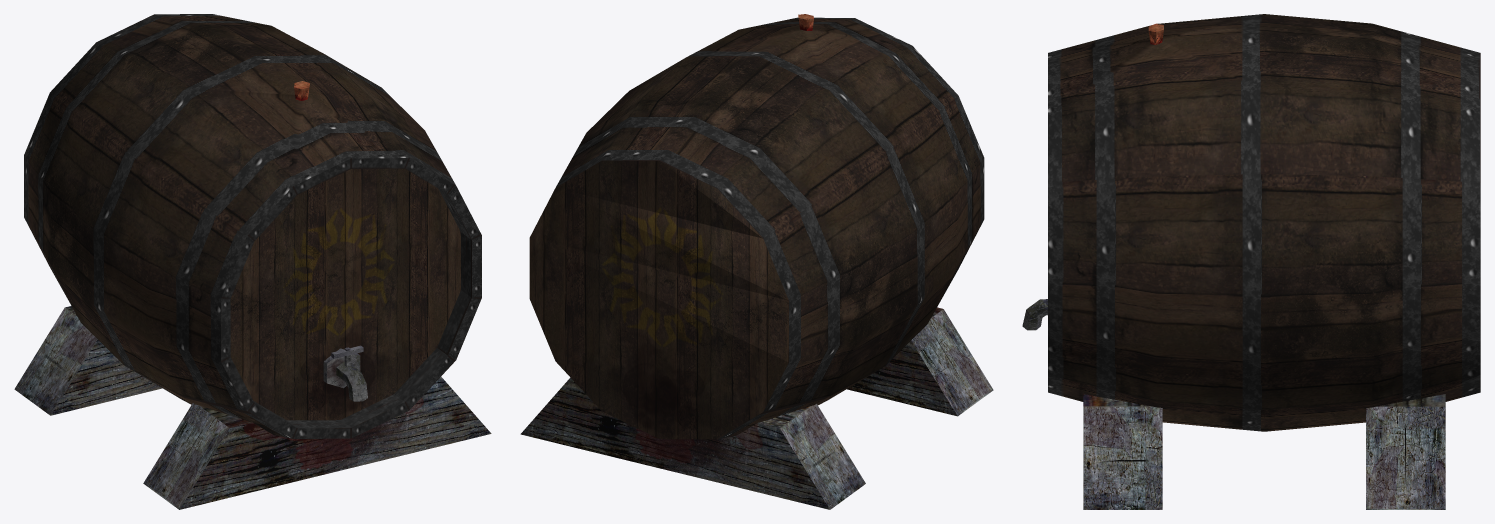
File: WineCaskSupported.fbx
3 views of the same model, side by side, from view 1: azimuth 30°, elevation 25°; view 2: azimuth 150°, elevation 25°; view 3: azimuth 270°, elevation 25° (orthographic). The views are drawn at different scales.
Parts seen in each view (by area): view 1: WineCaskSupported:Mesh; view 2: WineCaskSupported:Mesh; view 3: WineCaskSupported:Mesh.
Boxes of the visible parts, x1,y1,x2,y2 form: WineCaskSupported:Mesh: [14, 14, 491, 509]; WineCaskSupported:Mesh: [520, 14, 993, 509]; WineCaskSupported:Mesh: [1022, 14, 1480, 509].
Size of the model in its own units: 1.03 by 1.11 by 1.16.
